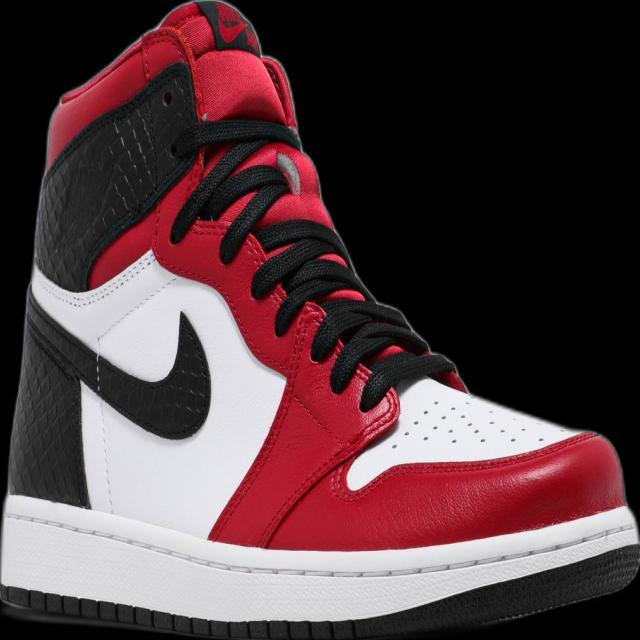J1_InsoleChar: (1, 0, 637, 637)
J1_ShoeShape: (36, 1, 467, 412)
J1_StitchPattern: (168, 114, 465, 409), (244, 215, 462, 408), (168, 115, 304, 260), (248, 216, 367, 334), (399, 396, 532, 450)
